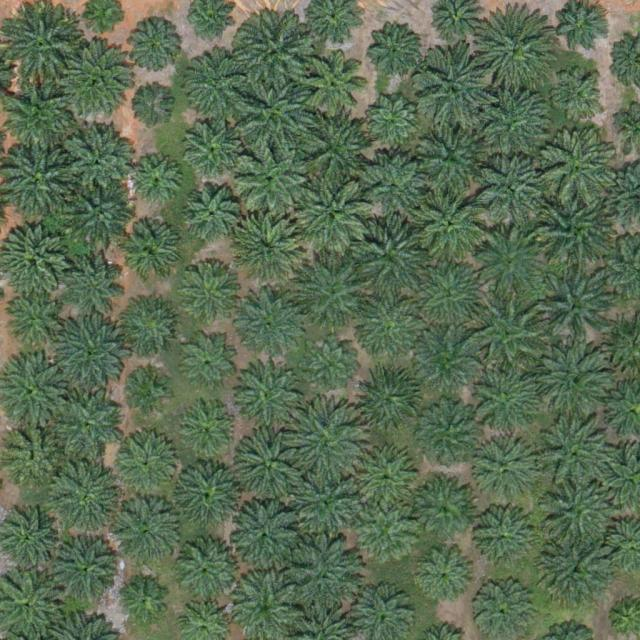Healthy: (535, 129, 613, 208), (533, 196, 611, 275), (538, 343, 616, 422), (476, 14, 554, 93), (468, 301, 546, 380), (418, 51, 496, 130), (284, 402, 362, 481), (298, 176, 376, 255), (235, 14, 313, 93), (4, 11, 82, 90), (286, 531, 364, 610), (535, 524, 613, 603), (238, 73, 316, 151), (539, 423, 610, 494), (417, 191, 488, 262), (231, 215, 302, 286), (66, 45, 137, 116), (5, 84, 76, 155), (479, 90, 549, 161), (415, 264, 486, 334), (354, 220, 424, 291), (300, 259, 370, 330), (234, 361, 304, 432), (234, 431, 304, 502), (173, 461, 243, 532), (184, 48, 255, 118), (114, 432, 184, 503), (52, 463, 123, 533), (54, 390, 124, 461), (66, 179, 136, 250), (3, 359, 73, 430), (177, 537, 247, 608), (231, 503, 301, 574), (347, 497, 417, 568), (112, 499, 182, 570), (541, 277, 611, 347), (481, 229, 551, 299), (414, 125, 484, 195), (353, 293, 423, 363), (292, 470, 362, 540), (301, 114, 371, 184), (238, 143, 308, 213), (232, 292, 302, 362), (55, 317, 125, 387), (63, 125, 133, 195), (49, 535, 119, 605), (479, 159, 542, 222), (417, 399, 480, 462), (417, 333, 480, 396), (354, 445, 417, 508), (305, 57, 368, 120), (120, 222, 183, 285), (415, 544, 478, 607), (544, 479, 607, 542), (472, 374, 535, 436), (477, 437, 540, 499), (417, 479, 479, 542), (364, 155, 426, 218), (65, 246, 127, 309), (5, 423, 67, 485), (473, 507, 535, 569), (127, 21, 182, 77), (363, 373, 418, 428), (181, 404, 236, 459), (185, 264, 240, 319), (184, 120, 239, 175), (128, 154, 183, 209), (123, 298, 178, 353), (2, 294, 57, 349), (2, 512, 57, 567), (185, 185, 239, 240), (554, 6, 601, 54), (554, 73, 601, 121), (371, 101, 418, 149), (187, 342, 234, 390), (124, 580, 171, 628), (372, 28, 419, 75), (309, 336, 356, 383)
Small: (128, 87, 175, 134), (129, 372, 169, 412)
